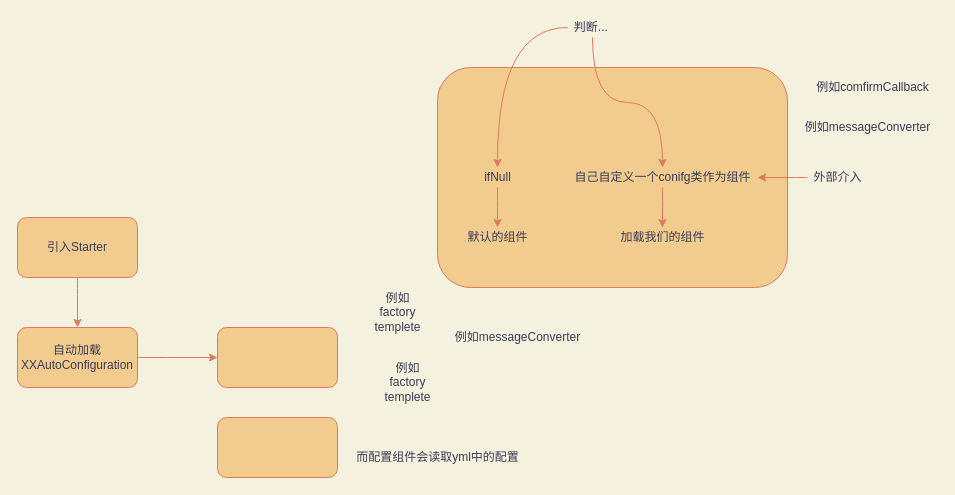
Image size: 955x495. Some labels were removed from this diagram. Here are the shapes that lost their labels. From the top down, the centre of each, then its label:
At point 277,357: "组件就导入了".
At point 277,447: "包括配置组件".
